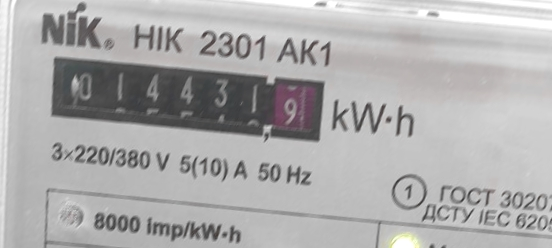0: (71, 67, 95, 102)
1: (107, 67, 130, 102), (244, 80, 261, 114)
3: (207, 75, 231, 110)
4: (139, 68, 164, 104), (174, 70, 196, 106)
9: (277, 93, 298, 126)
screen: (35, 36, 339, 161)
